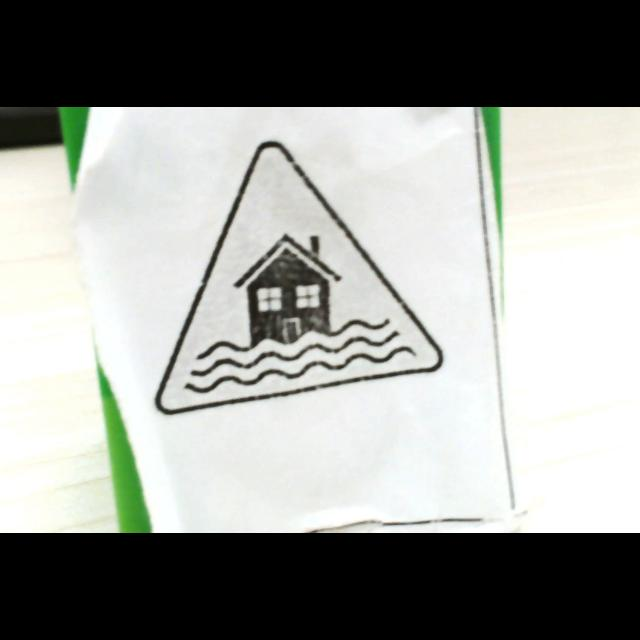Tsunami: (155, 141, 442, 415)
